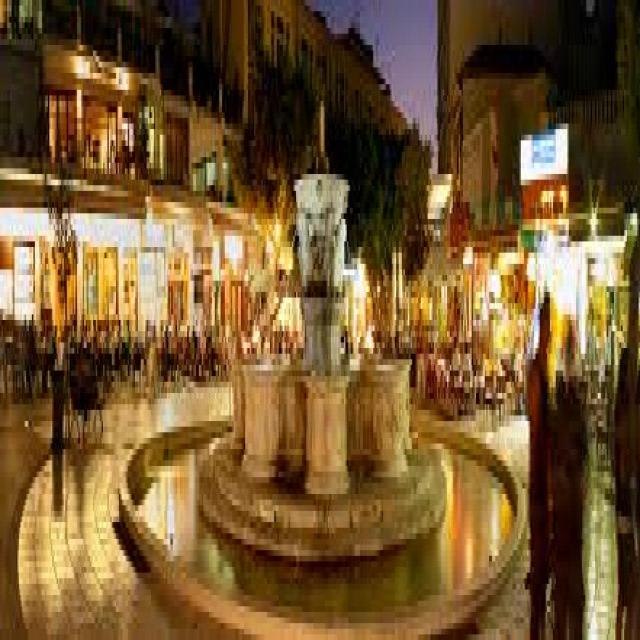Liontaria: (230, 154, 416, 494)
